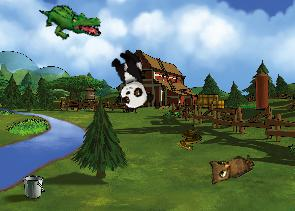crocodile: (39, 0, 102, 43)
owl: (202, 142, 256, 189)
panda: (105, 46, 156, 113)
